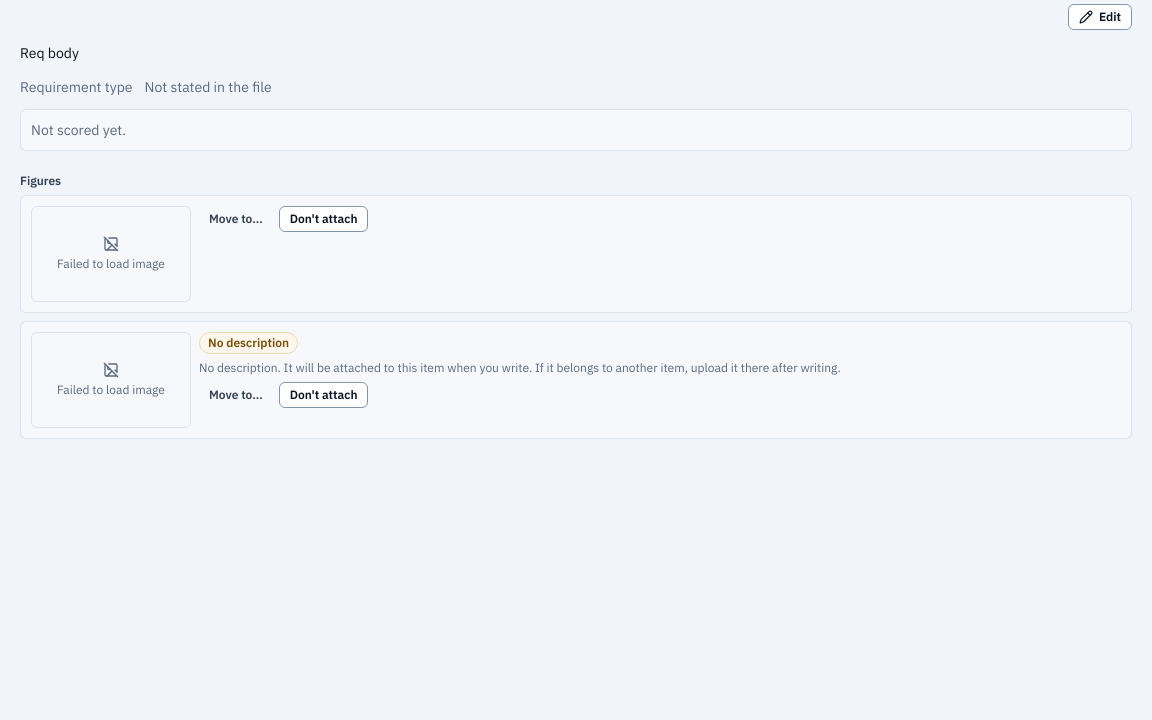
Scenario: NodeDetailPanel figure move › the error text differs for detach and move
Click the button with aria-label "Don't attach, figure 1 of 2". click: (324, 219)
box: [279,206,368,232]
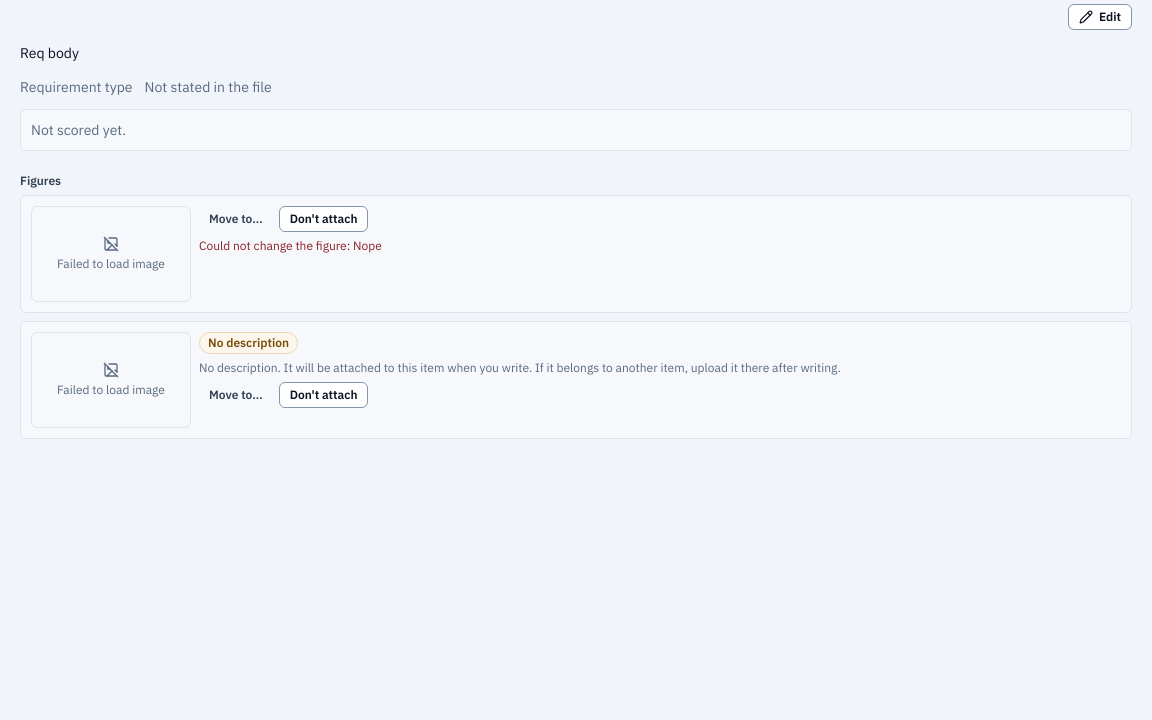
Check: the text "Could not change the figure: Nope" is shown, box [199,238,382,253]
Click the button with aria-label "Move to…, figure 2 of 2". click: (236, 395)
box: [199,383,273,407]
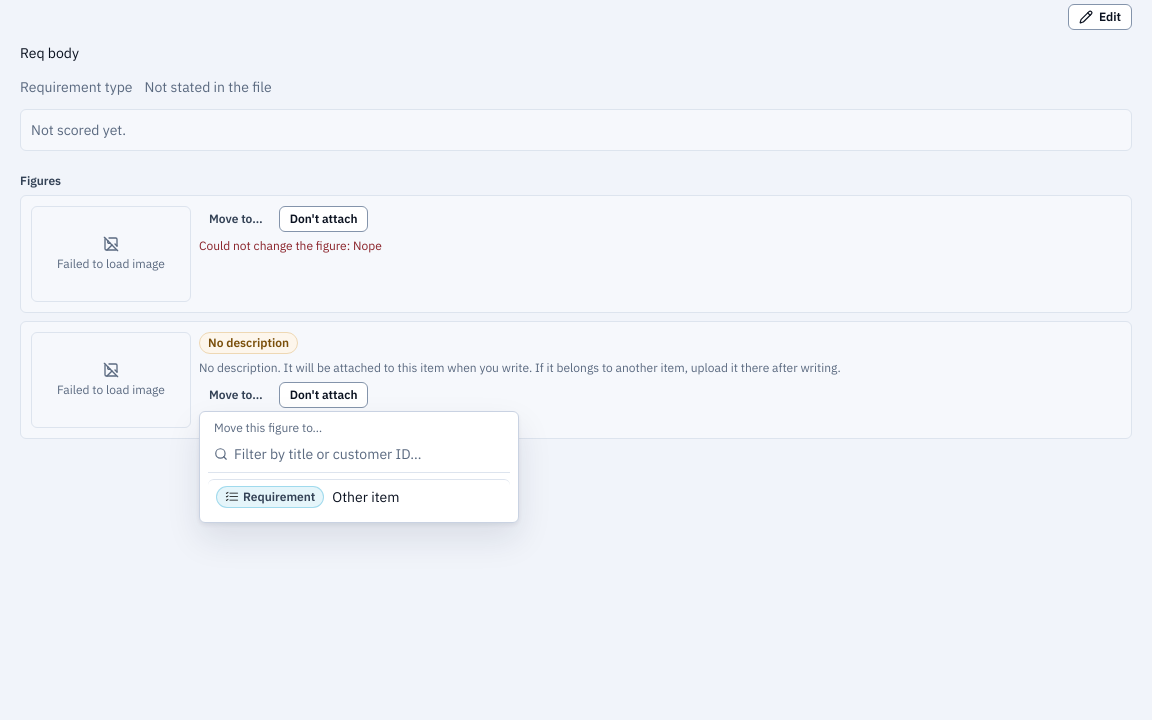
Click the button "Requirement Other item". click: (359, 496)
box: [208,479,510,514]
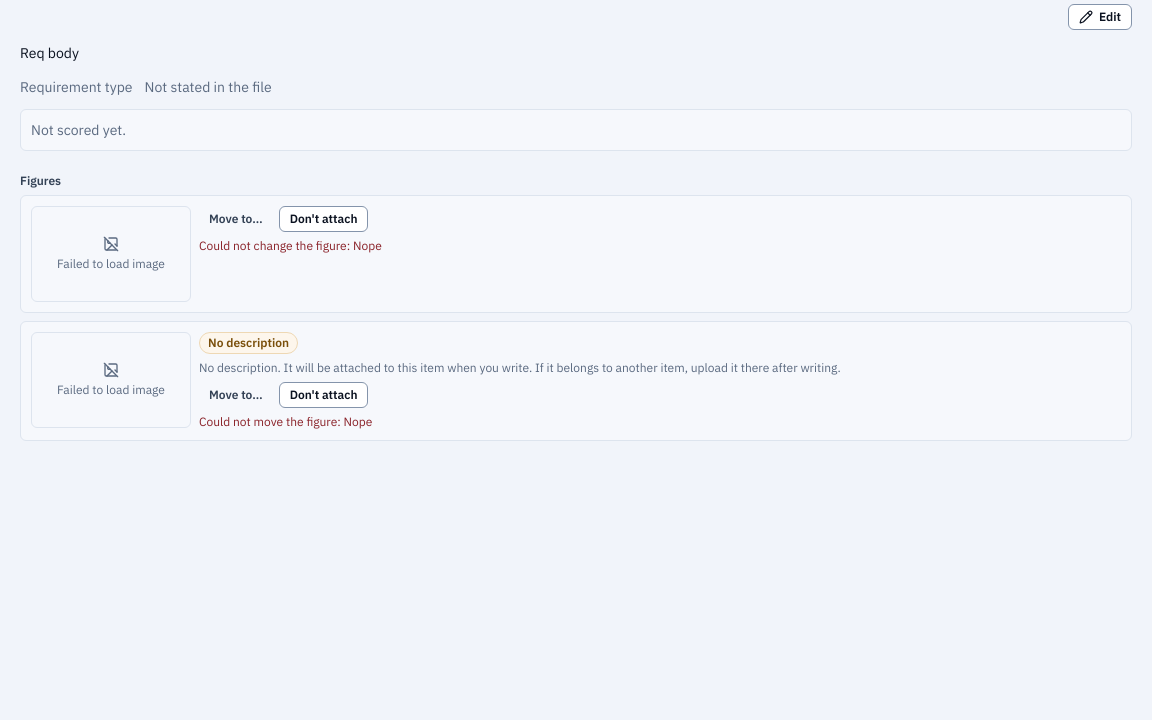
Check: the text "Could not move the figure: Nope" is shown, box [199,414,372,429]
